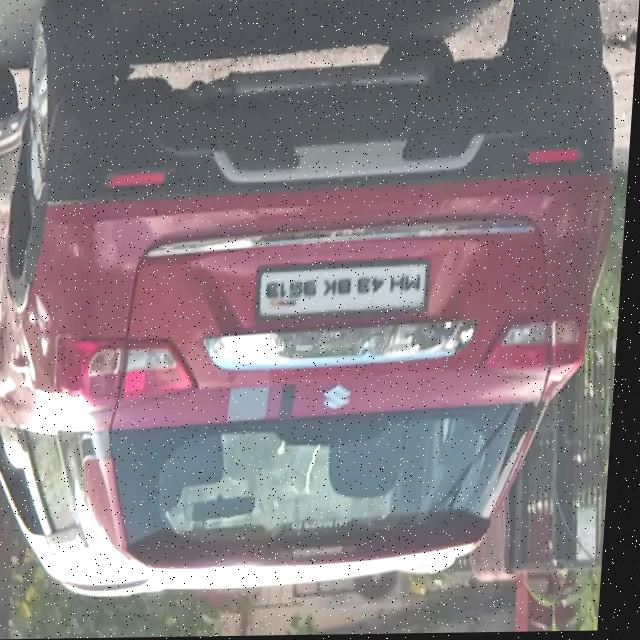plate: (253, 254, 440, 321)
